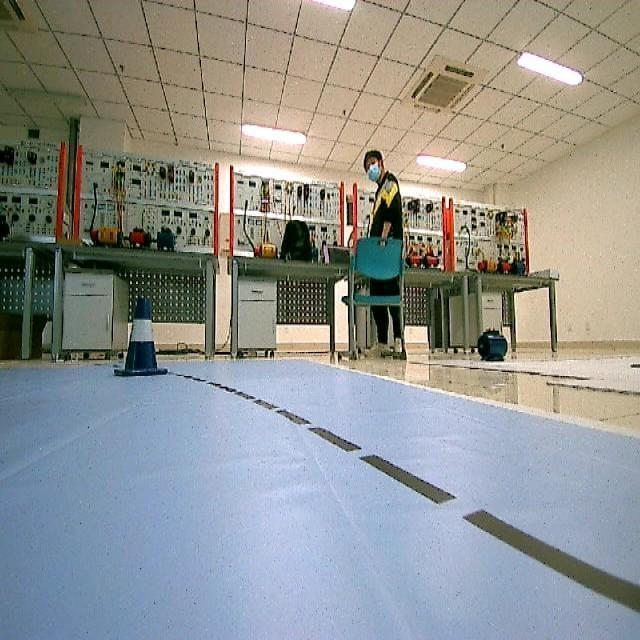obstacle: (106, 302, 170, 383)
